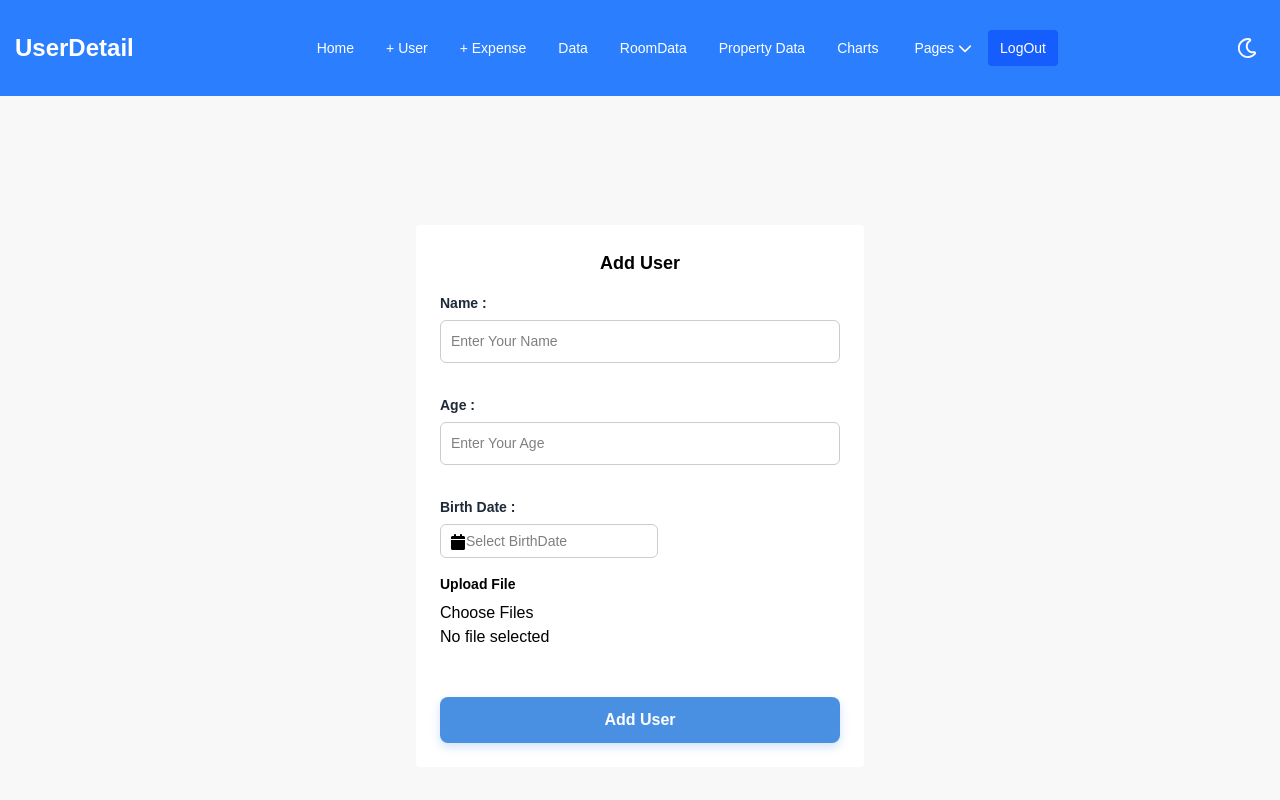
Form Component › Empty Field Validation in Add User Form
Step 1. Click the button "Add User" → (640, 720), box [440,697,840,743]
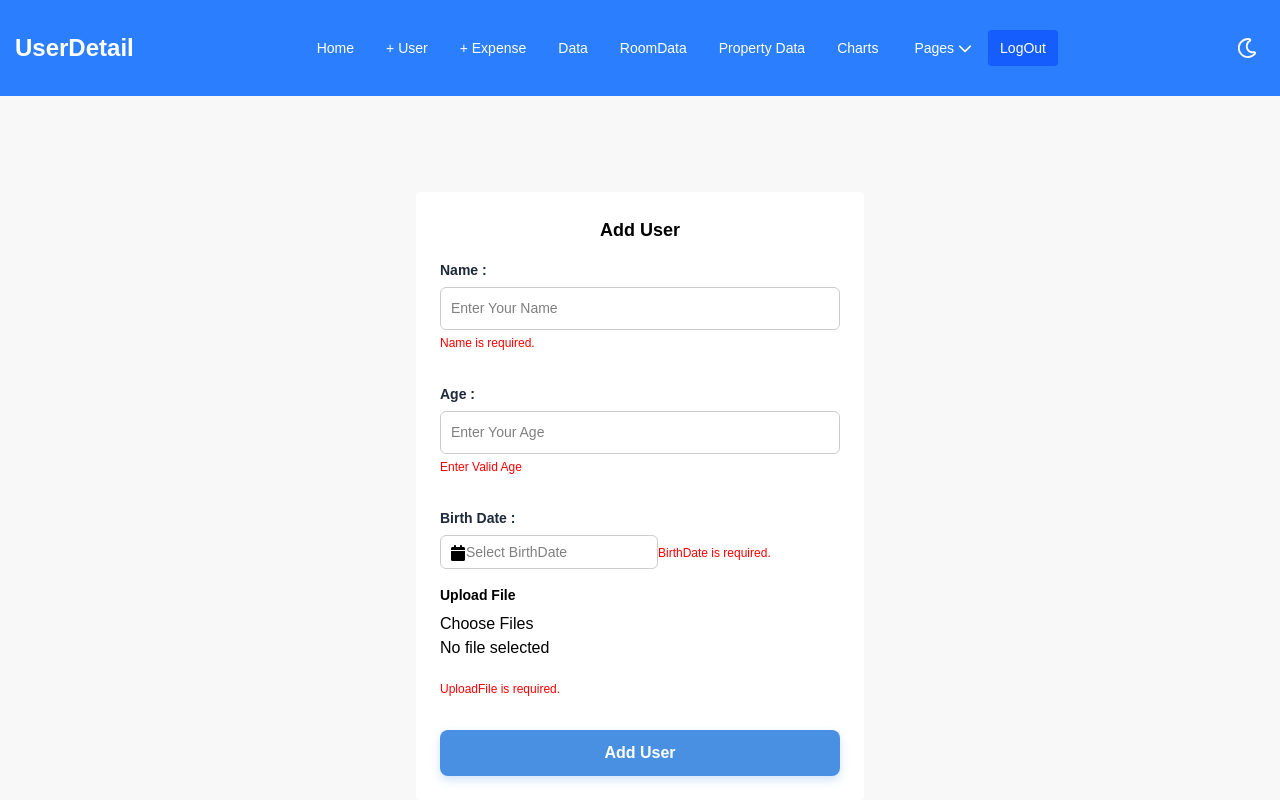
Now the text "Name is required." is shown, box [440,336,535,350]
Now the text "BirthDate is required." is shown, box [658,546,771,560]
Now the text "Enter Valid Age" is shown, box [440,460,522,474]
